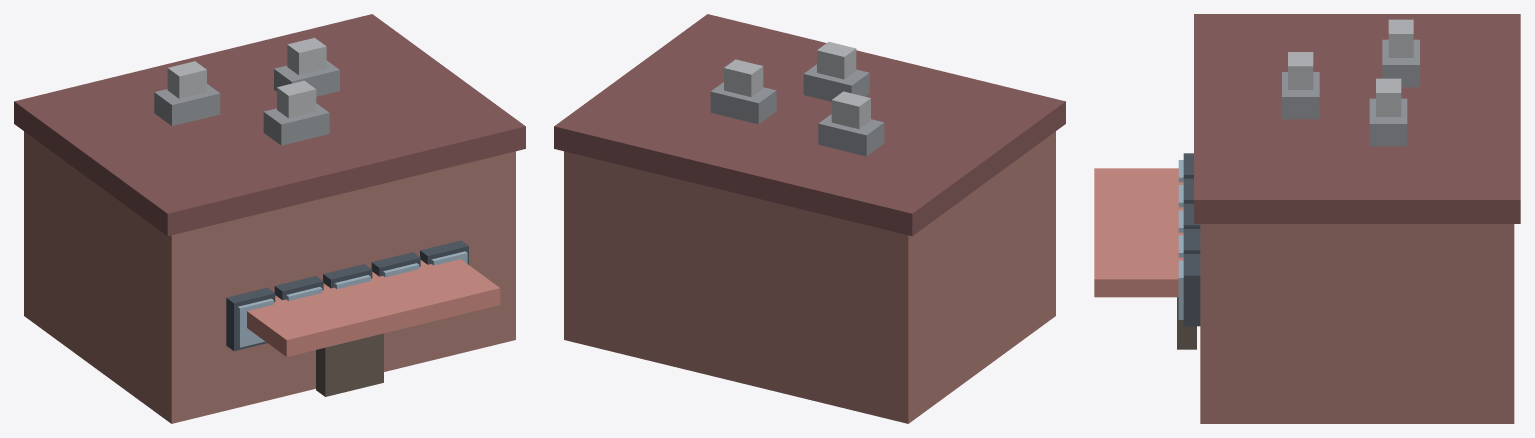
The model's file is diner.glb.
3 renders of one model, left to right at view 1: azimuth 30°, elevation 25°; view 2: azimuth 150°, elevation 25°; view 3: azimuth 270°, elevation 25°, orthographic. The views are drawn at different scales.
Parts seen in each view (by area): view 1: world; view 2: world; view 3: world.
Boxes of the visible parts, left/top/right/bottom form: world: left=14, top=14, right=525, bottom=423; world: left=554, top=14, right=1065, bottom=423; world: left=1094, top=14, right=1520, bottom=423.
Size of the model in its own units: 1.33 by 0.92 by 1.29.
